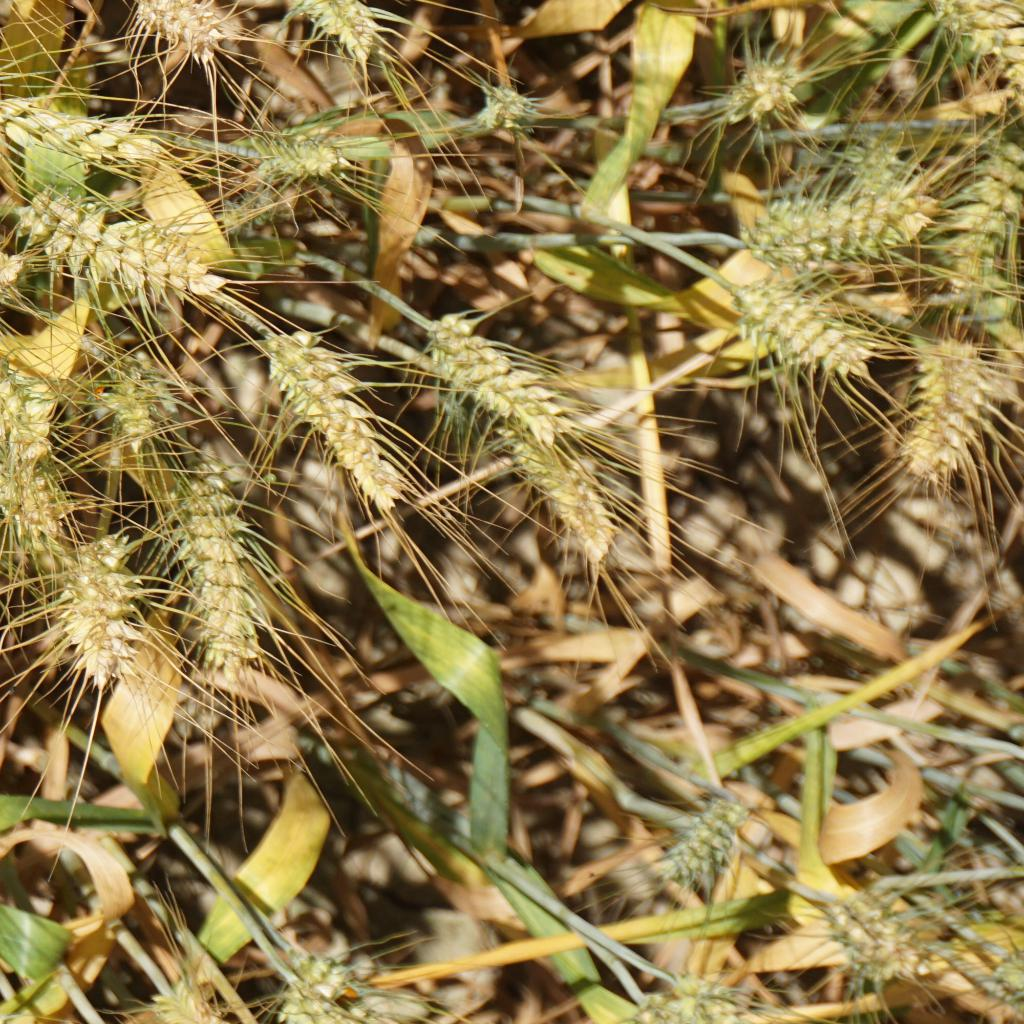0-0: (263, 320, 437, 517), (0, 182, 234, 315), (165, 471, 270, 667), (495, 406, 621, 561), (414, 297, 561, 427), (734, 150, 898, 263), (890, 320, 996, 480), (0, 69, 173, 165), (934, 137, 1024, 316), (657, 781, 766, 911), (730, 271, 860, 371), (67, 524, 141, 688), (817, 896, 922, 996), (915, 0, 1024, 92), (841, 145, 930, 250), (713, 38, 815, 128), (294, 0, 406, 73), (465, 71, 563, 152), (237, 122, 358, 184), (97, 361, 177, 453), (272, 951, 371, 1024), (189, 186, 310, 244), (0, 353, 58, 466), (640, 960, 741, 1024), (122, 0, 222, 62), (9, 456, 70, 542), (129, 969, 214, 1024), (0, 228, 34, 325)
